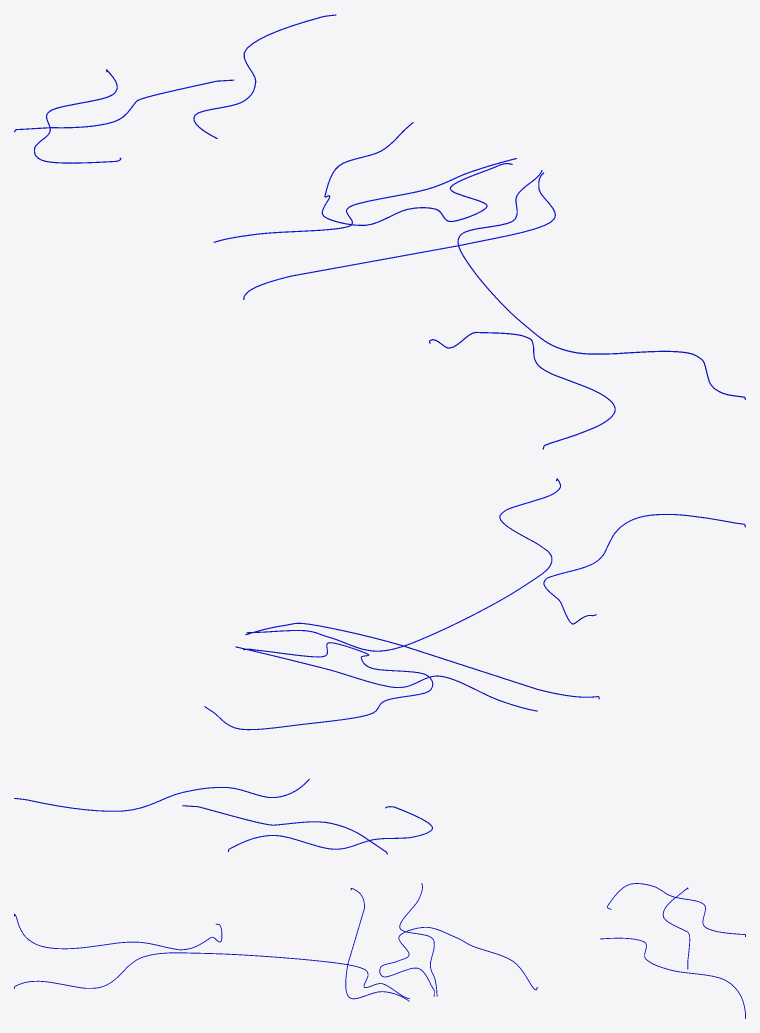
3 renders of one model, top to bottom at view 1: azimuth 30°, elevation 25°; view 2: azimuth 150°, elevation 25°; view 3: azimuth 270°, elevation 25°, orthographic. The views are drawn at different scales.
Visible parts, largest first — view 1: SA_Line_01; view 2: SA_Line_01; view 3: SA_Line_01.
Boxes of the visible parts, x1,y1,x2,y2 form: SA_Line_01: (14, 14, 745, 449); SA_Line_01: (14, 478, 745, 854); SA_Line_01: (14, 883, 745, 1018).
Size of the model in its own units: 2075 by 169 by 4784.
